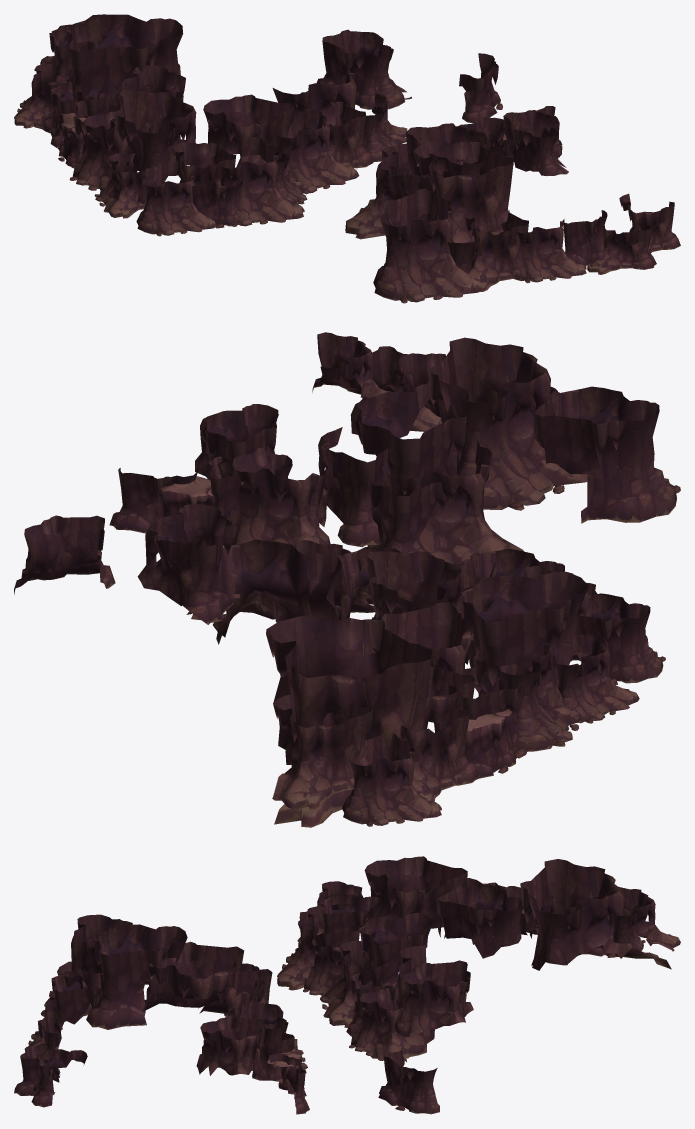
File: area13_shiqiang_02.FBX
3 renders of one model, top to bottom at view 1: azimuth 30°, elevation 25°; view 2: azimuth 150°, elevation 25°; view 3: azimuth 270°, elevation 25°, orthographic. The views are drawn at different scales.
Parts seen in each view (by area): view 1: area13_shiqiang_02; view 2: area13_shiqiang_02; view 3: area13_shiqiang_02.
Boxes of the visible parts, box(x1,y1,x2,y2) form: area13_shiqiang_02: box(14, 14, 680, 303); area13_shiqiang_02: box(14, 332, 680, 827); area13_shiqiang_02: box(14, 856, 680, 1114).
Size of the model in its own units: 8247 by 1934 by 11799.
